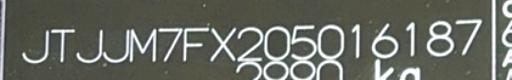letter: (454, 16, 486, 59), (20, 23, 52, 63), (181, 23, 211, 64), (316, 21, 348, 59), (425, 17, 455, 57), (128, 26, 158, 66), (371, 20, 401, 59), (208, 24, 238, 63), (233, 24, 263, 63), (102, 26, 130, 67), (290, 20, 318, 60), (74, 25, 102, 64), (262, 24, 292, 60), (50, 23, 76, 64), (157, 25, 183, 65), (347, 20, 365, 60), (401, 19, 419, 58)
